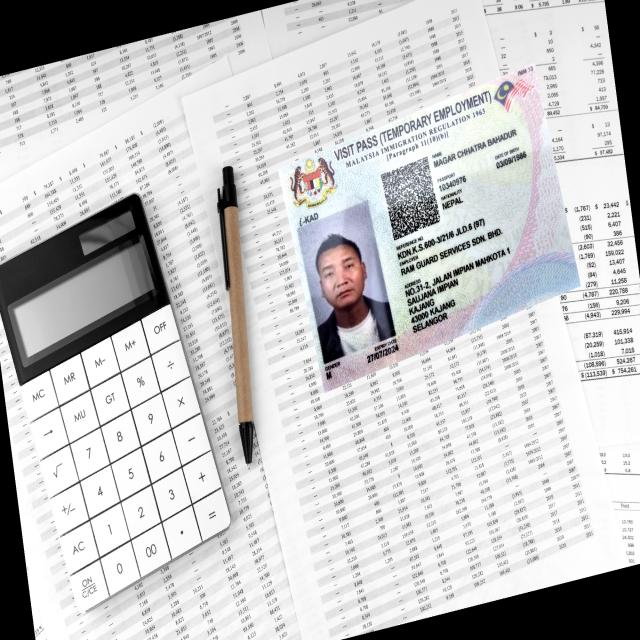ikad-temp: (280, 58, 584, 398)
